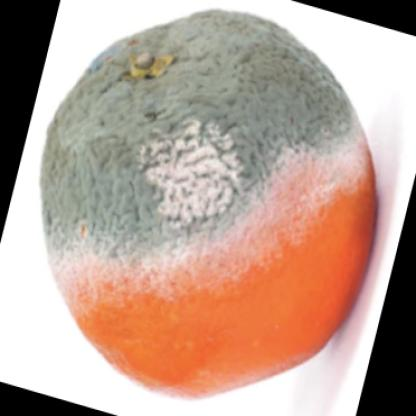rotten: (41, 9, 380, 398)
